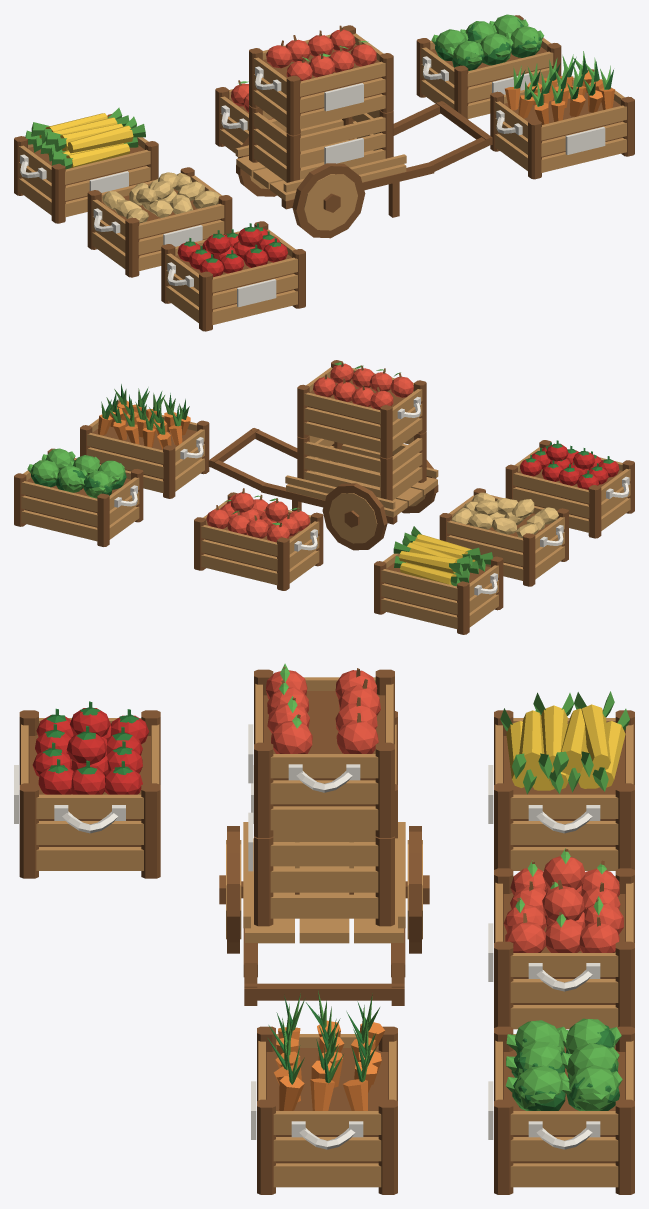
File: farm-produce-crates.glb
The picture shows the model from 3 angles, top to bottom: view 1: azimuth 30°, elevation 25°; view 2: azimuth 150°, elevation 25°; view 3: azimuth 270°, elevation 25°; orthographic projection. The views are drawn at different scales.
Parts seen in each view (by area): view 1: Handcart, Crate_Carrots, Crate_Tomatoes, Crate_Corn, Crate_Potatoes, Crate_Cabbages, Wheel_L, Crate_Apples, Wheel_R; view 2: Handcart, Crate_Corn, Crate_Cabbages, Crate_Apples, Crate_Carrots, Crate_Tomatoes, Crate_Potatoes, Wheel_R, Wheel_L; view 3: Handcart, Crate_Carrots, Crate_Cabbages, Crate_Tomatoes, Crate_Apples, Crate_Corn, Wheel_L, Wheel_R.
Part boxes in pixels (box(x1,y1,x2,y2)): Handcart: box(235, 25, 492, 217); Crate_Carrots: box(490, 51, 634, 179); Crate_Tomatoes: box(161, 221, 305, 331); Crate_Corn: box(14, 107, 158, 223); Crate_Potatoes: box(87, 167, 232, 277); Crate_Cabbages: box(416, 14, 561, 119); Wheel_L: box(292, 163, 365, 238); Crate_Apples: box(215, 80, 274, 153); Wheel_R: box(238, 131, 286, 196); Handcart: box(208, 360, 438, 524); Crate_Corn: box(374, 526, 503, 634); Crate_Cabbages: box(14, 448, 143, 546); Crate_Apples: box(194, 488, 323, 590); Crate_Carrots: box(80, 384, 209, 498); Crate_Tomatoes: box(505, 440, 634, 538); Crate_Potatoes: box(439, 488, 568, 586); Wheel_R: box(322, 483, 387, 550); Wheel_L: box(392, 455, 436, 513); Handcart: box(241, 663, 407, 1005); Crate_Carrots: box(251, 990, 397, 1194); Crate_Cabbages: box(488, 1018, 634, 1194); Crate_Tomatoes: box(14, 701, 160, 878); Crate_Apples: box(488, 848, 634, 1029); Crate_Corn: box(488, 691, 634, 870); Wheel_L: box(219, 826, 241, 953); Wheel_R: box(407, 826, 429, 953).
Bounding box in the file's own units: 15.42 × 4.75 × 9.69.
